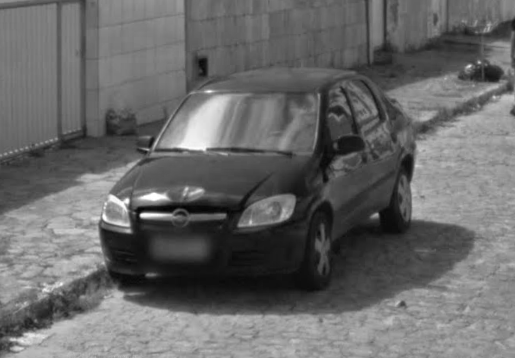car: (97, 61, 423, 297)
